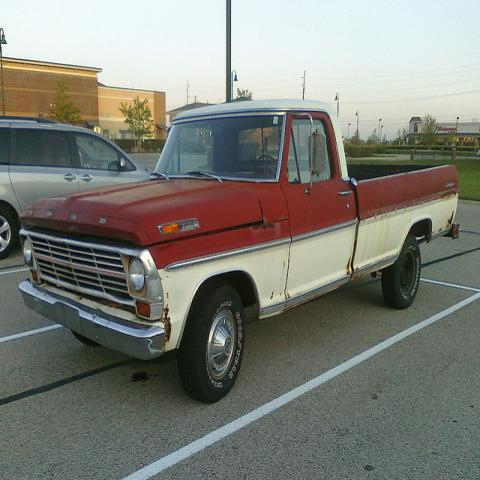car: (0, 117, 159, 261)
truck: (13, 96, 462, 410)
